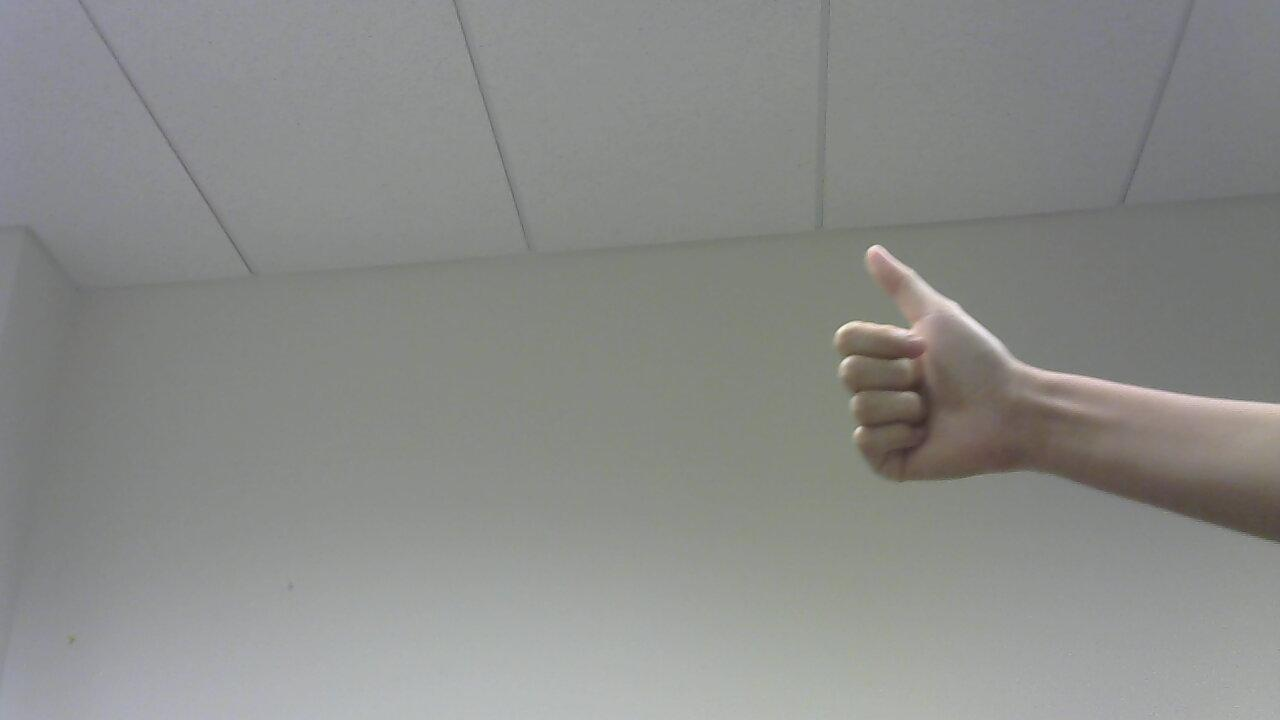hands: (832, 220, 1017, 493)
